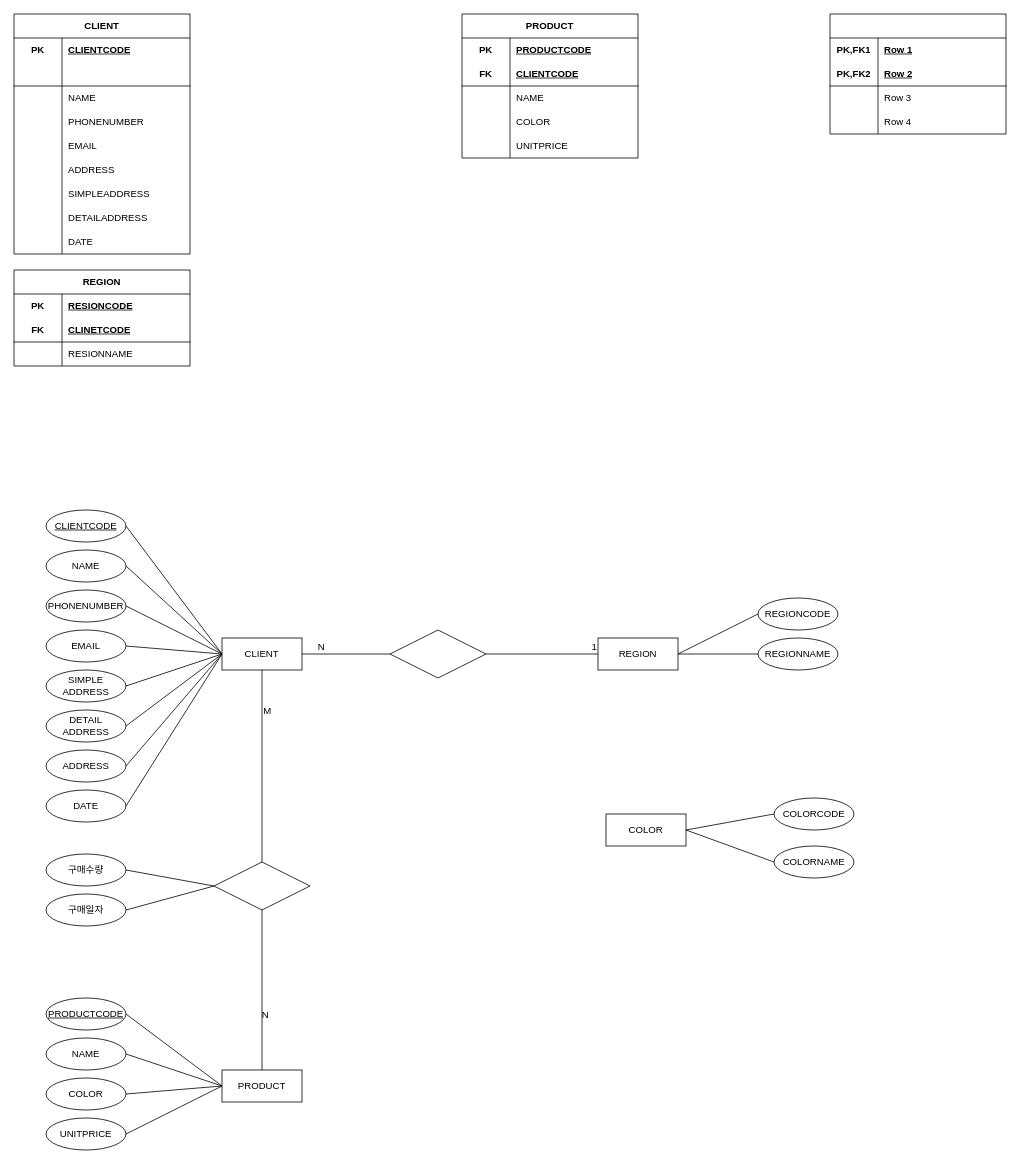
The diagram is 1020 pixels wide and 1164 high, and some of its shapes have lost their labels. The shapes that lost their labels are listed below. From the top down, each one's box as (x1, y1, x2, y2) in pixels, then its label:
(829, 13, 1006, 134): Table
(389, 629, 486, 678): MANAGEMENT
(213, 861, 310, 910): 구매
